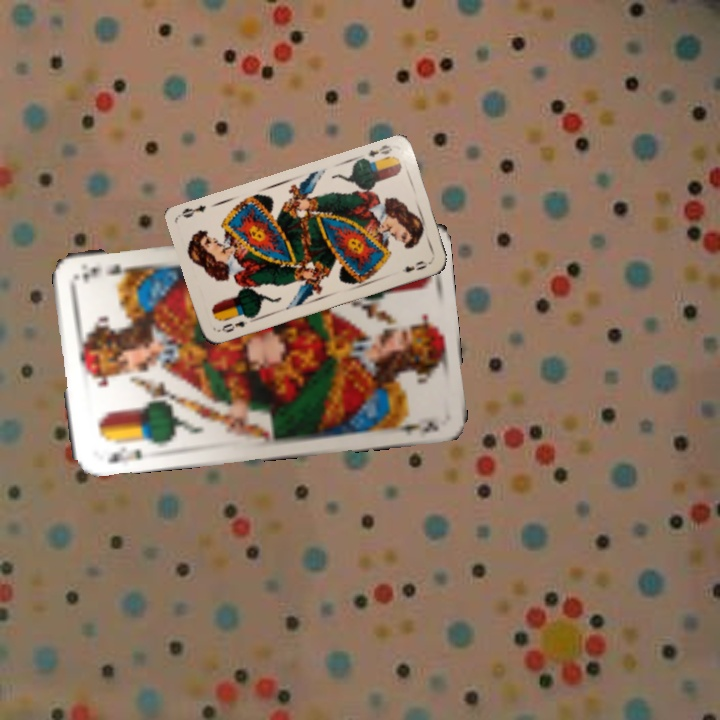EK: (104, 444, 146, 465)
EO: (218, 317, 250, 335), (365, 141, 395, 160)
